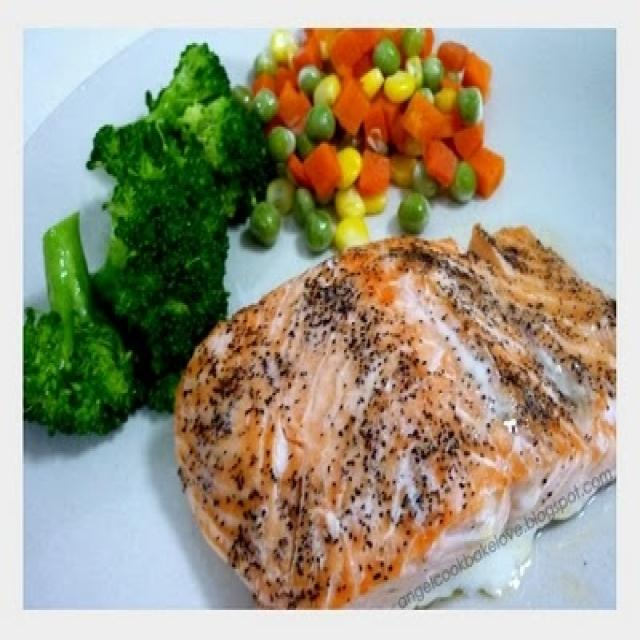熟制海鲜: (26, 34, 611, 608)
